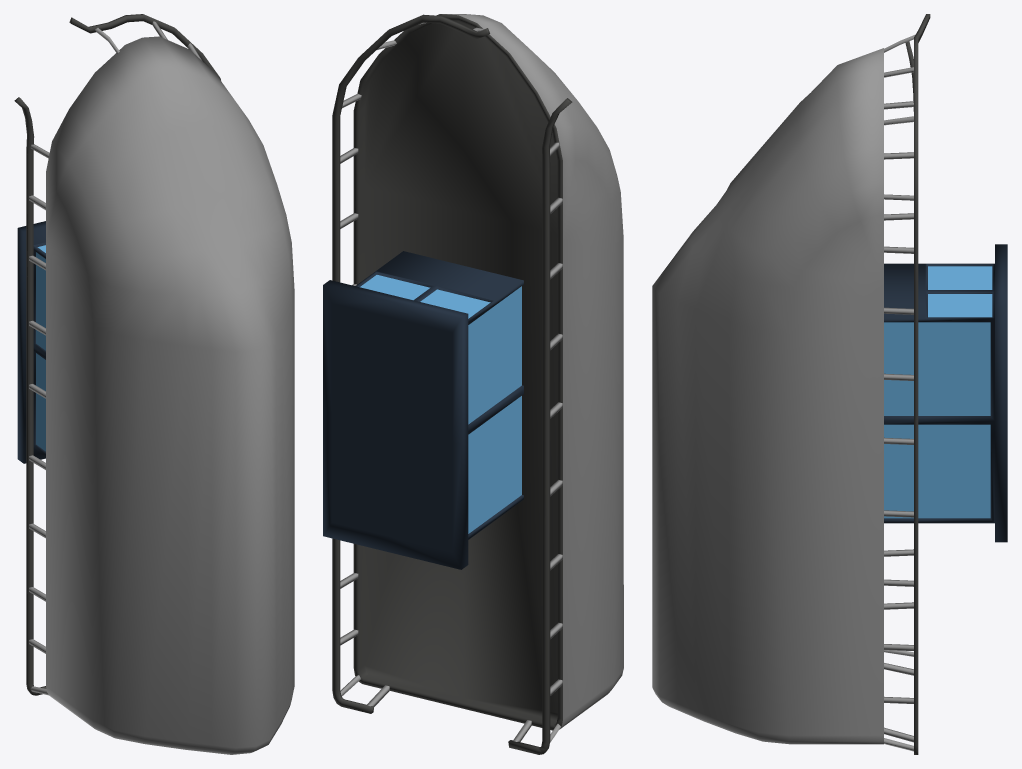
The model's file is Boat.fbx.
3 renders of one model, left to right at view 1: azimuth 30°, elevation 25°; view 2: azimuth 150°, elevation 25°; view 3: azimuth 270°, elevation 25°, orthographic. The views are drawn at different scales.
Parts seen in each view (by area): view 1: mesh_boat; view 2: mesh_boat; view 3: mesh_boat.
Boxes of the visible parts, left/top/right/bottom form: mesh_boat: left=14, top=14, right=294, bottom=754; mesh_boat: left=323, top=14, right=623, bottom=754; mesh_boat: left=652, top=14, right=1007, bottom=754.
Bounding box in the file's own units: 669 × 1969 × 944.
